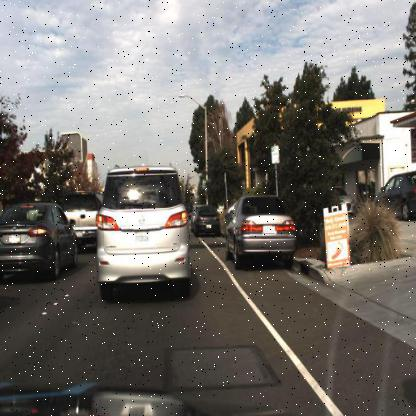car: (97, 170, 190, 296), (0, 199, 81, 278), (226, 196, 296, 263), (63, 191, 100, 251), (372, 171, 416, 219), (328, 180, 364, 224), (194, 205, 221, 237)
